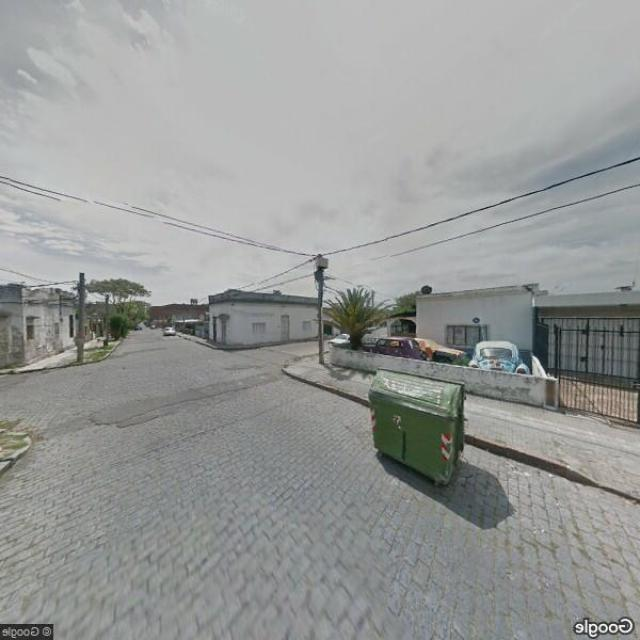garbage container: (359, 360, 476, 498)
